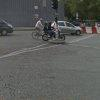Bicycle: (30, 26, 65, 44)
